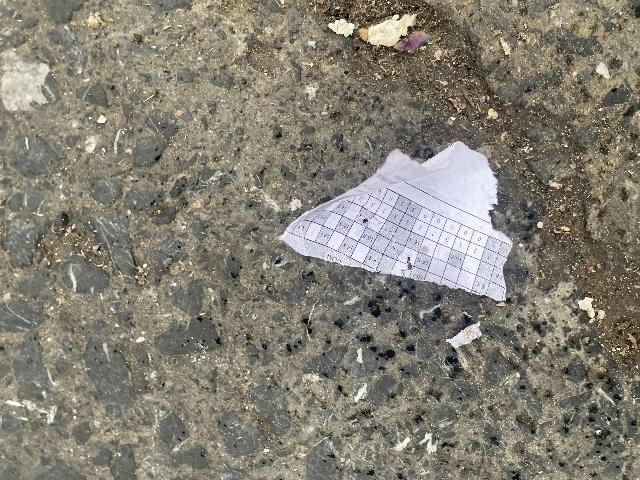Kagit: (273, 125, 540, 316), (313, 10, 441, 54)
